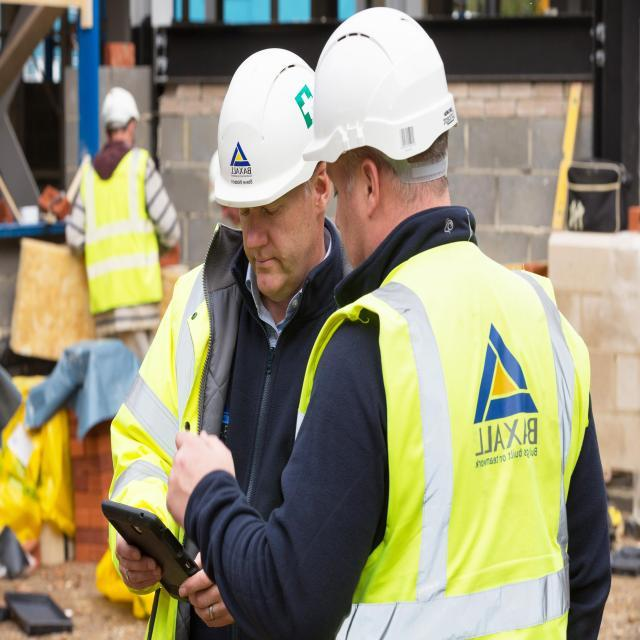reflective_jacket: (300, 247, 587, 635), (95, 257, 240, 634), (78, 144, 165, 318)
safety_helmet: (309, 4, 461, 169), (207, 42, 318, 209), (99, 81, 142, 127)
